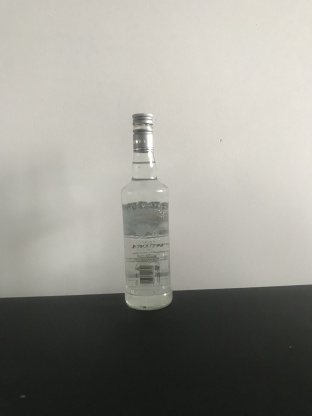nakretka: (131, 113, 155, 153)
